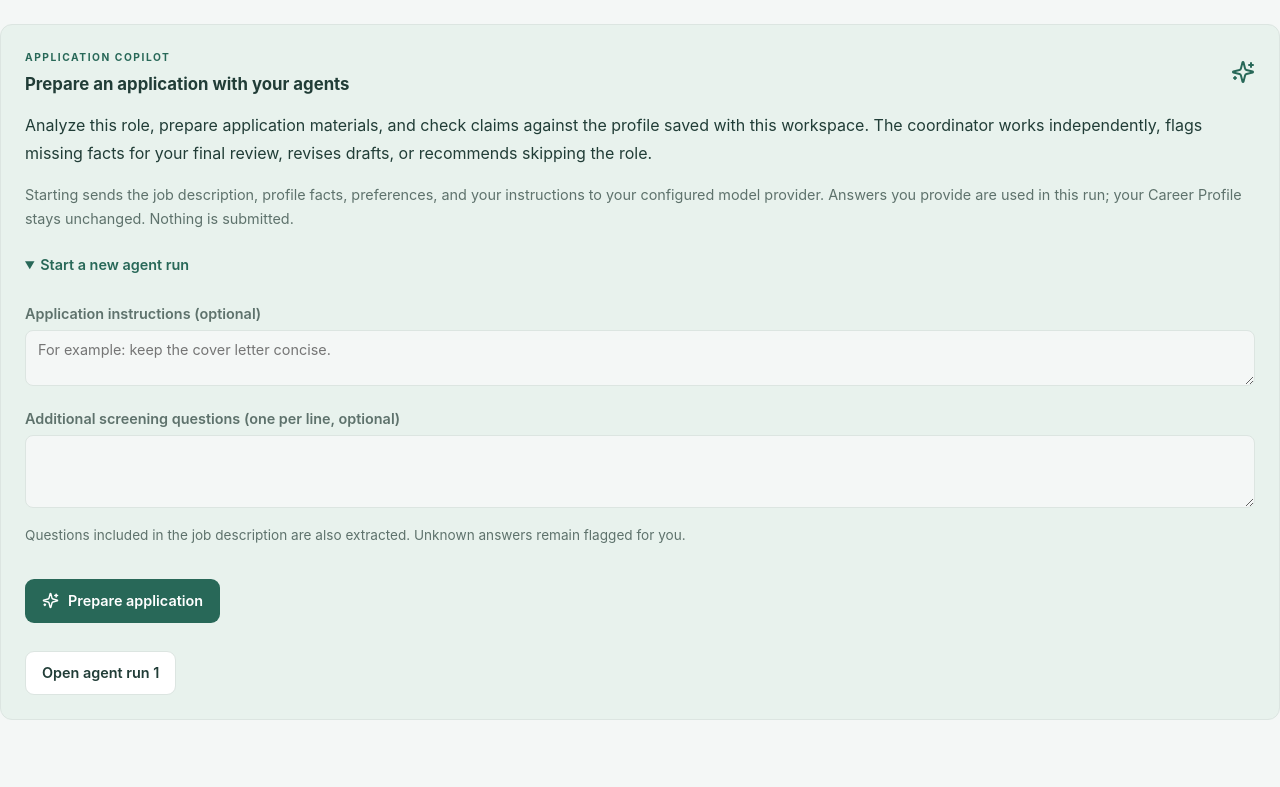
Test: reopens a failed run and retries its pending step
Click the button "Open agent run 1".
click(101, 673)  # box [25,651,176,695]
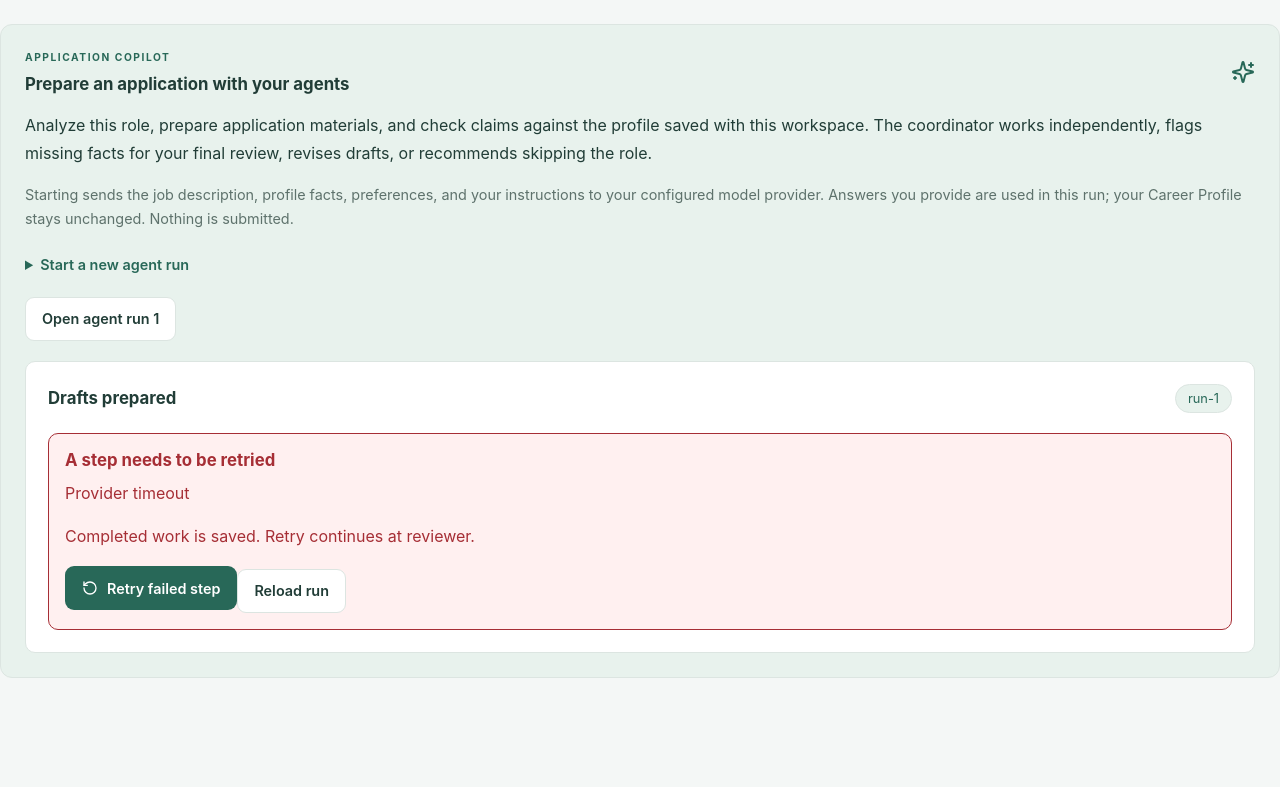
Now the text "Provider timeout" is shown, box [65,483,190,503]
Click the button "Retry failed step".
click(151, 588)  # box [65,566,237,610]
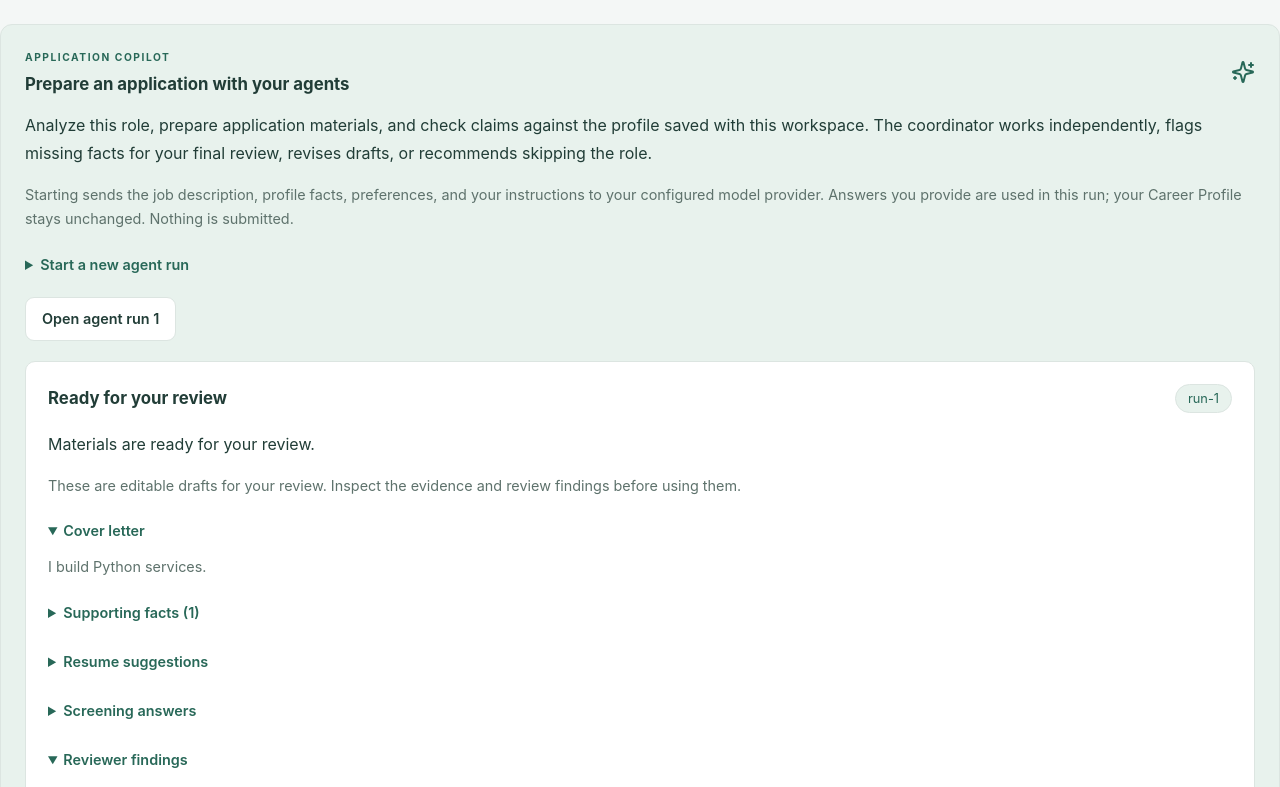
Now the heading "Ready for your review" is shown, box [48,388,227,408]
